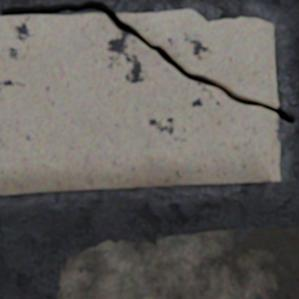brick: (58, 225, 298, 298)
broken_brick: (0, 14, 281, 194), (117, 10, 278, 108)
crack: (1, 0, 296, 125)
